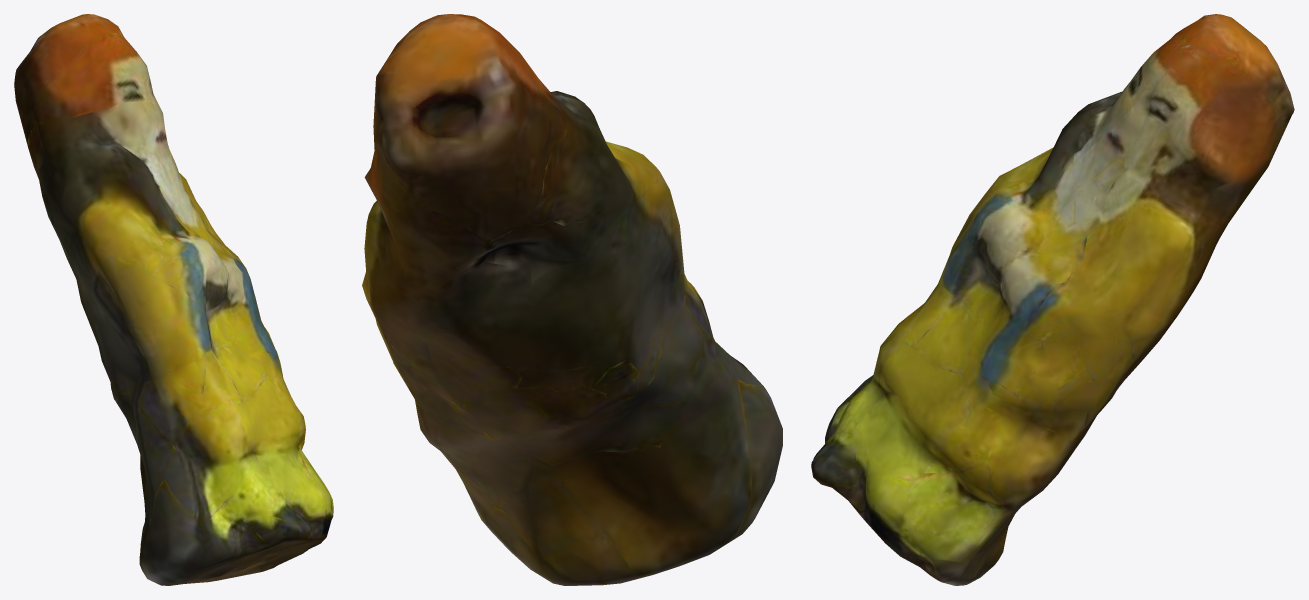
Rendered from hall.glb.
The picture shows the model from 3 angles, left to right: view 1: azimuth 30°, elevation 25°; view 2: azimuth 150°, elevation 25°; view 3: azimuth 270°, elevation 25°; orthographic projection. The views are drawn at different scales.
Bounding box in the file's own units: 0.2387 × 0.5662 × 0.4644.
Materials: 1 (1 with a texture image).
